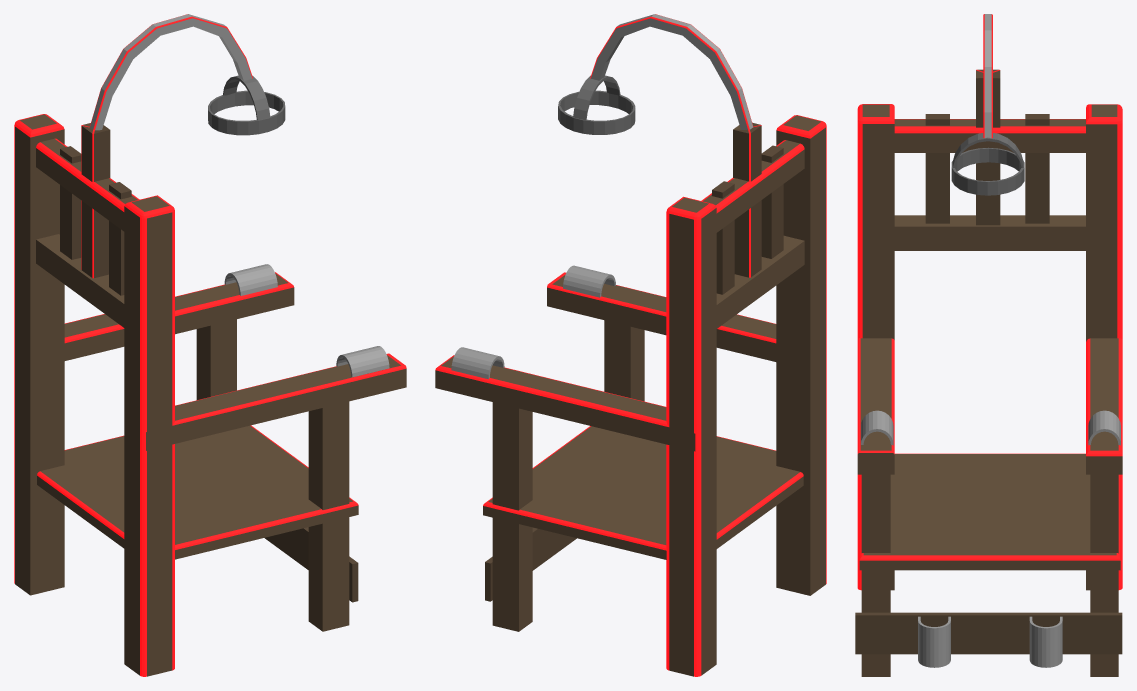
The model's file is J_obs_Electricchair.fbx.
3 renders of one model, left to right at view 1: azimuth 30°, elevation 25°; view 2: azimuth 150°, elevation 25°; view 3: azimuth 270°, elevation 25°, orthographic.
Parts seen in each view (by area): view 1: sILLA; view 2: sILLA; view 3: sILLA.
Part boxes in pixels (left/top/right/bottom): sILLA: left=14, top=14, right=406, bottom=676; sILLA: left=435, top=14, right=826, bottom=676; sILLA: left=855, top=14, right=1122, bottom=676.
Bounding box in the file's own units: 99.11 × 211 × 85.47.
